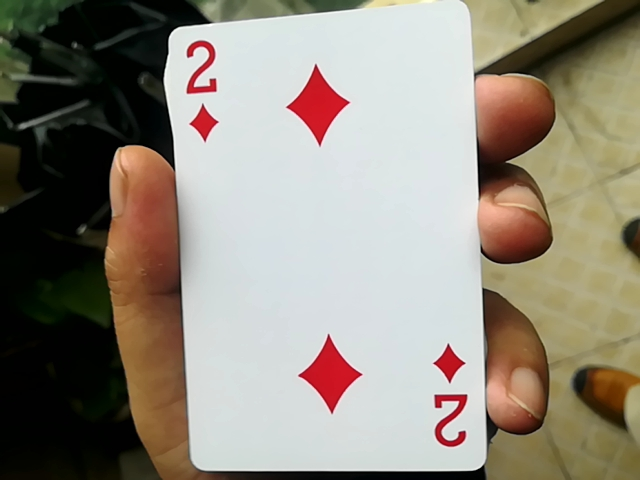fk 2: (147, 0, 494, 476)
